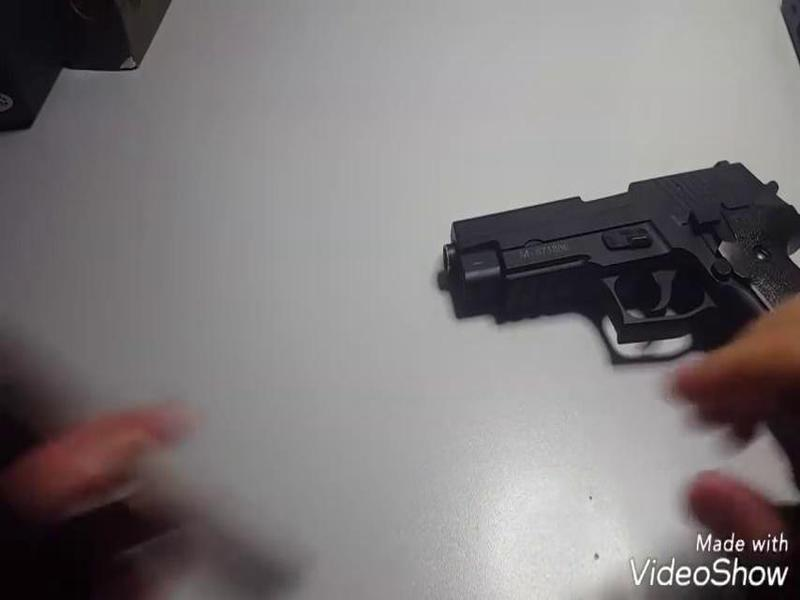Pistola: (436, 146, 800, 387)
